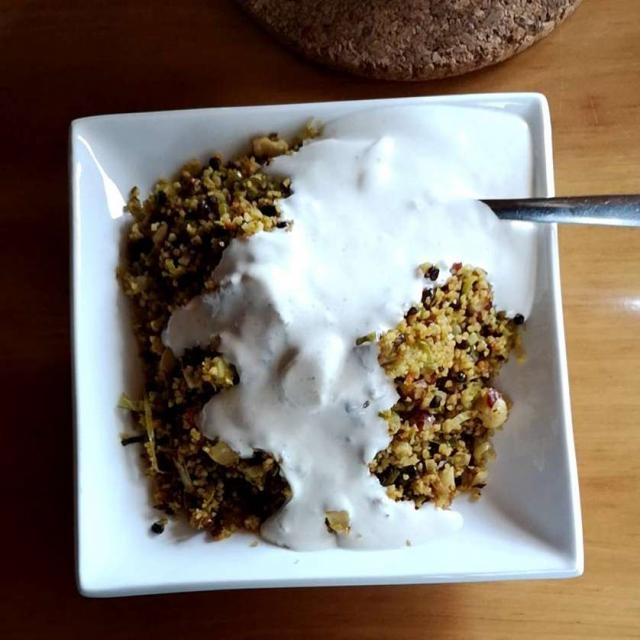yogurt: (214, 110, 532, 555)
